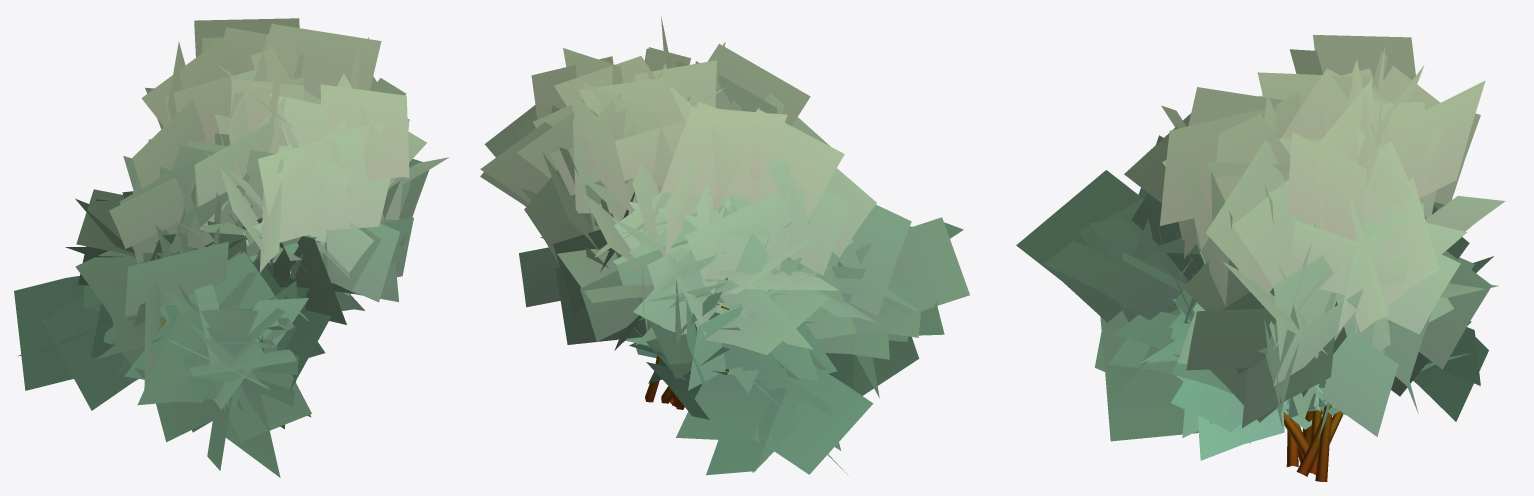
The model's file is bush_broad_a.glb.
3 renders of one model, left to right at view 1: azimuth 30°, elevation 25°; view 2: azimuth 150°, elevation 25°; view 3: azimuth 270°, elevation 25°, orthographic. The views are drawn at different scales.
Parts seen in each view (by area): view 1: LOD0; view 2: LOD0; view 3: LOD0.
Part boxes in pixels (x1=…): LOD0: x1=14, y1=18, x2=448, y2=477; LOD0: x1=480, y1=15, x2=969, y2=475; LOD0: x1=1016, y1=35, x2=1505, y2=481.
Size of what is drawn, in the model's own units: 2.91 by 2.51 by 2.62.
